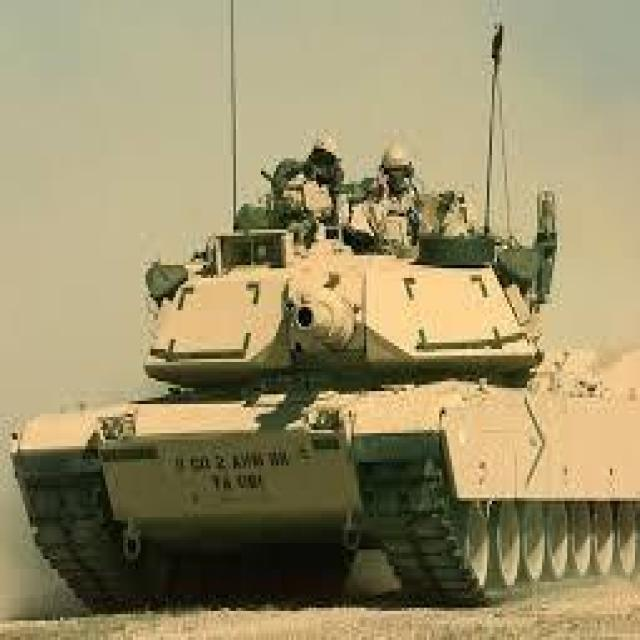MIL_MBT: (3, 48, 625, 608)
